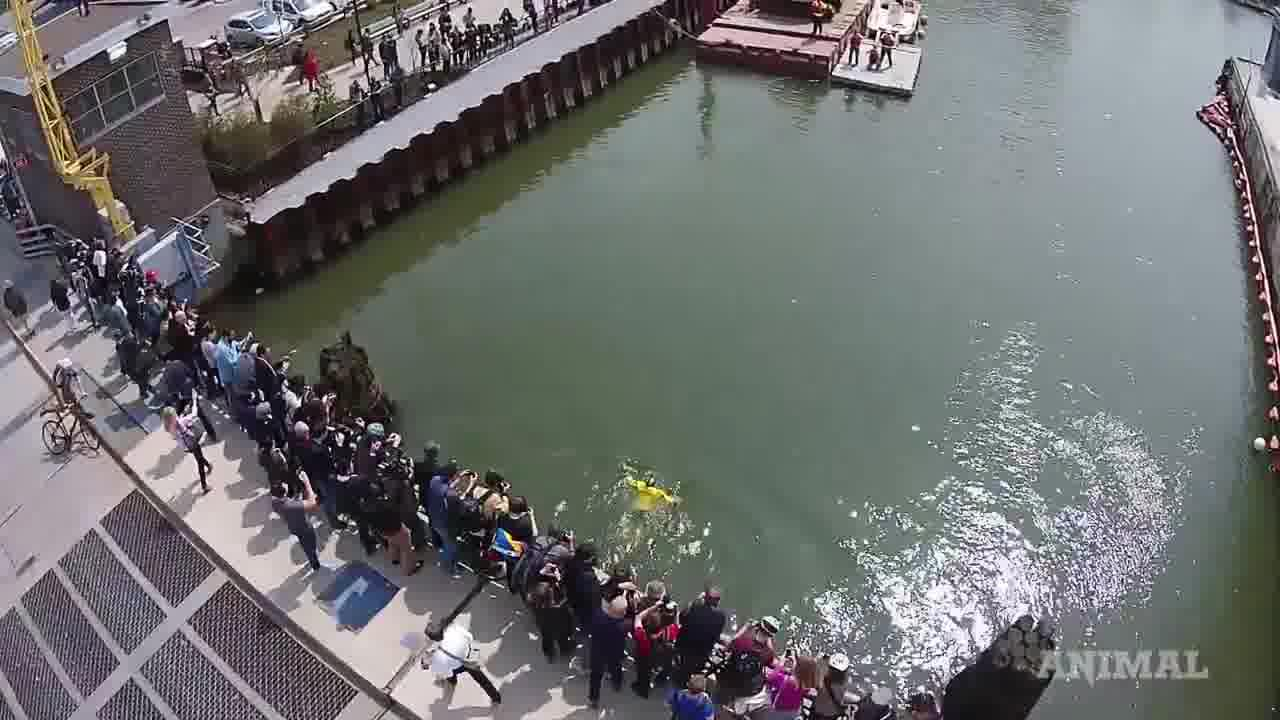human: (619, 455, 673, 520)
